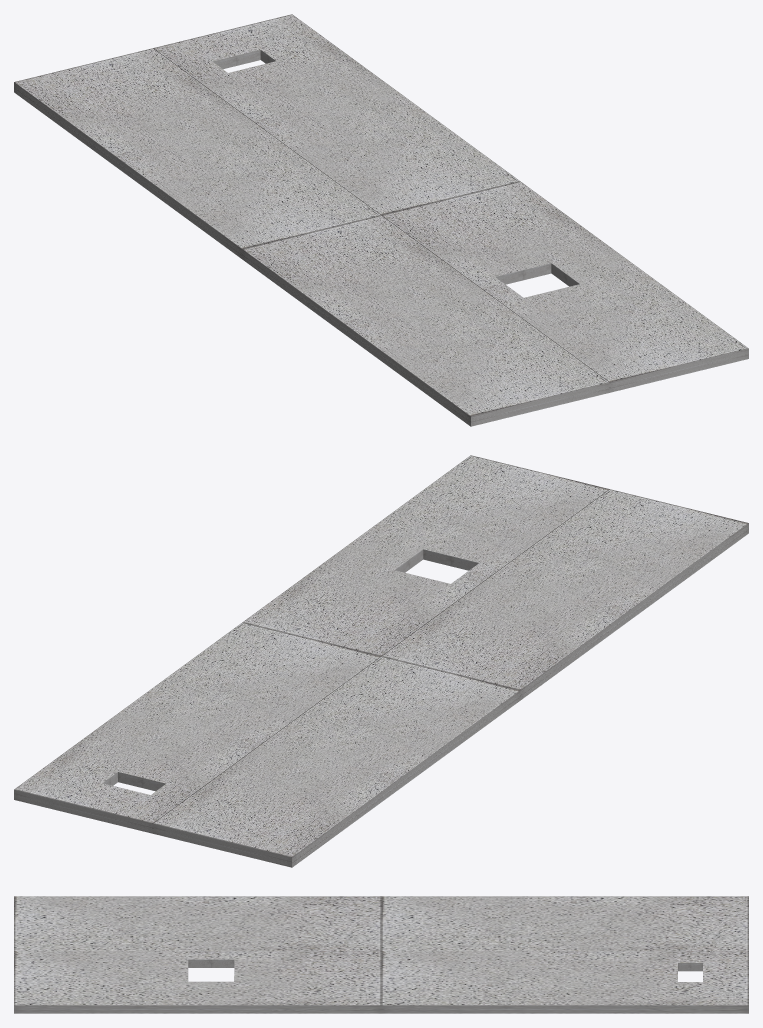
Rendered from Floor_2F.fbx.
3 renders of one model, top to bottom at view 1: azimuth 30°, elevation 25°; view 2: azimuth 150°, elevation 25°; view 3: azimuth 270°, elevation 25°, orthographic. The views are drawn at different scales.
Visible parts, largest first — view 1: Floor_2F; view 2: Floor_2F; view 3: Floor_2F.
Part boxes in pixels (x1,y1,x2,y2): Floor_2F: (14, 14, 748, 426); Floor_2F: (14, 455, 748, 867); Floor_2F: (14, 896, 748, 1013).
Bounding box in the file's own units: 28.31 × 1 × 80.53.
1 material, 1 textured.
